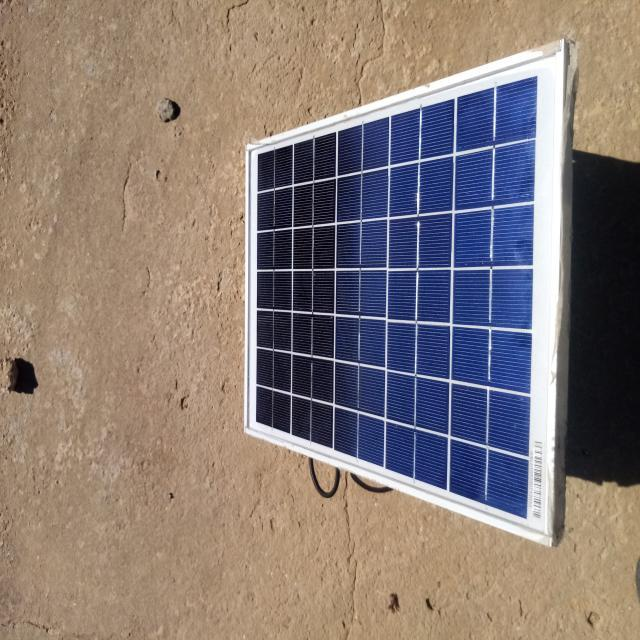no faulty: (248, 37, 568, 544)
